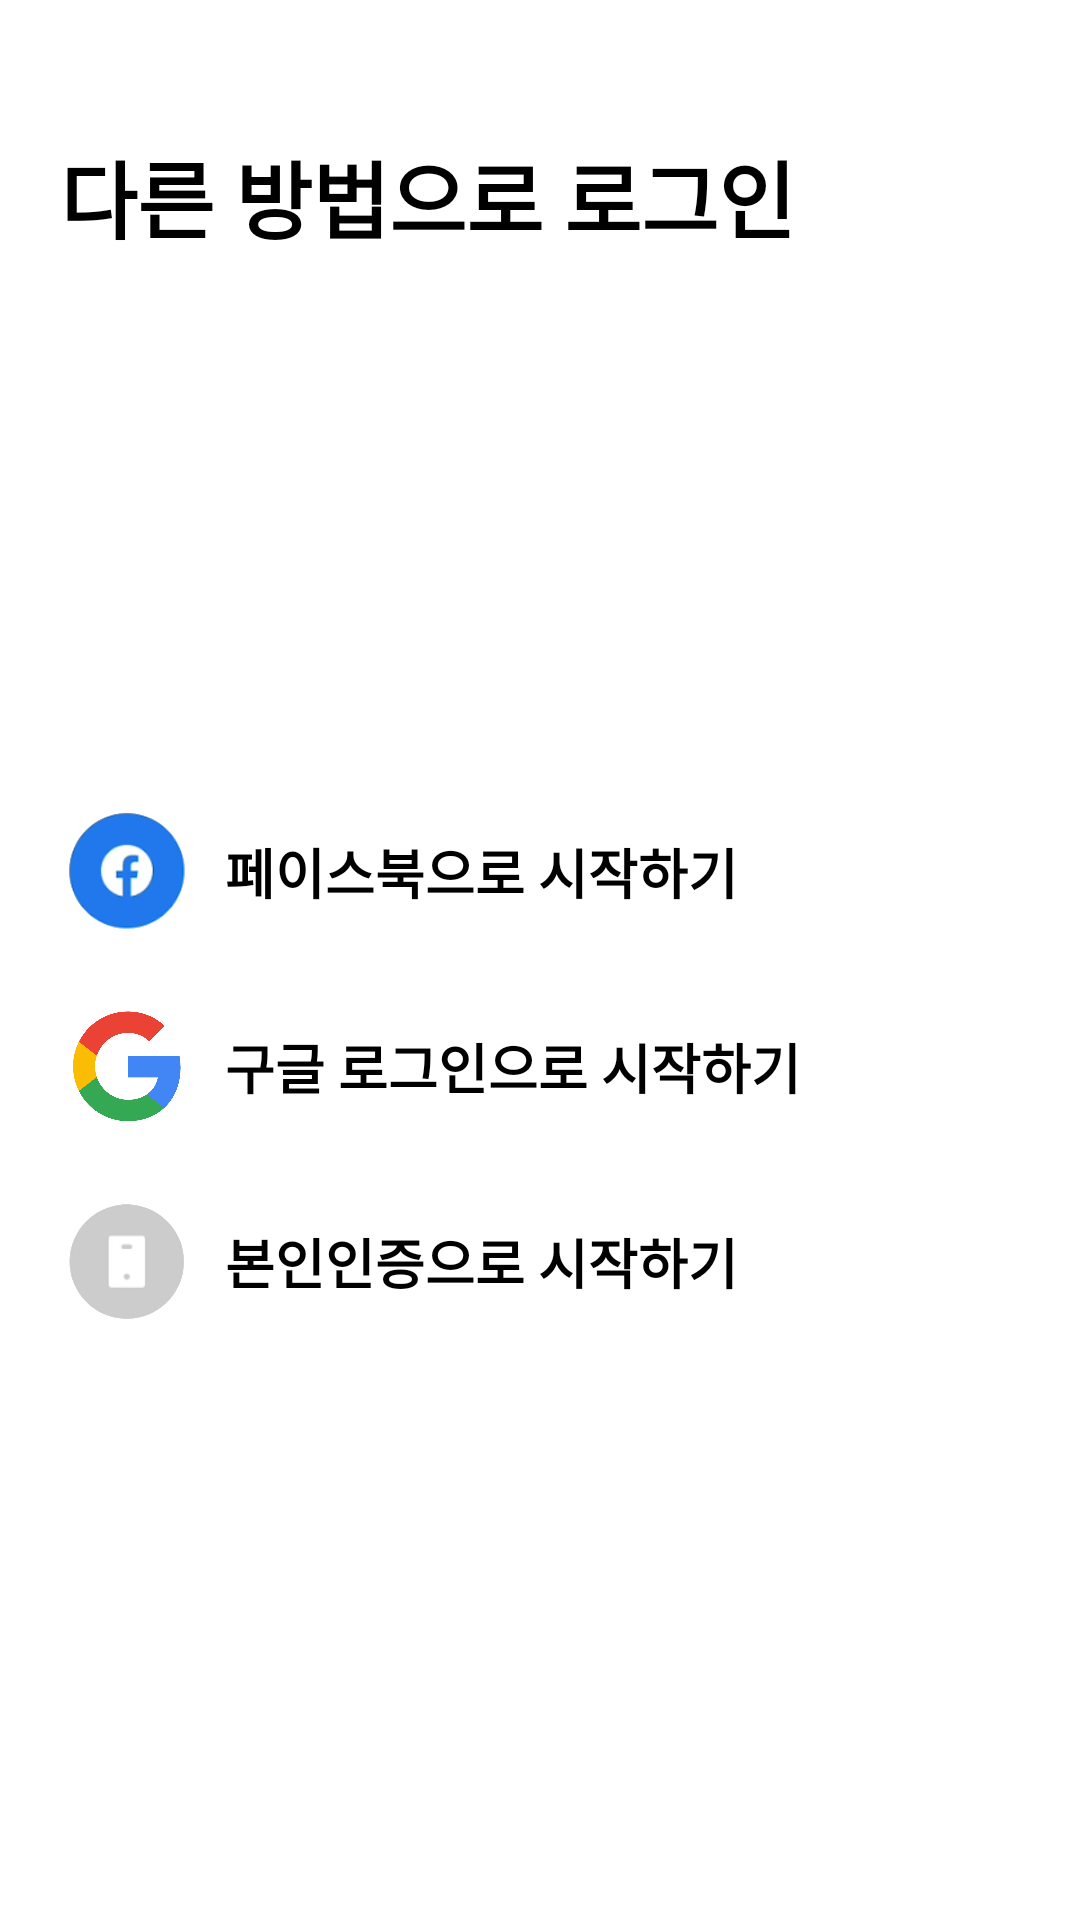

Screen size 1080×1920. Icon name, then its box in pixels as (left=x1, top=y1, right=x2, bottom=y2):
login start phone: (left=69, top=1204, right=184, bottom=1319)
